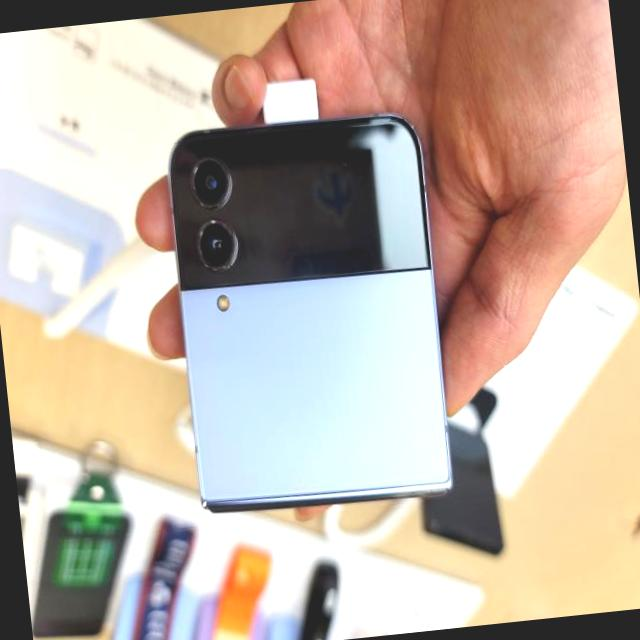lens_back: (184, 149, 235, 214), (191, 215, 242, 274)
phone: (162, 102, 458, 524)
